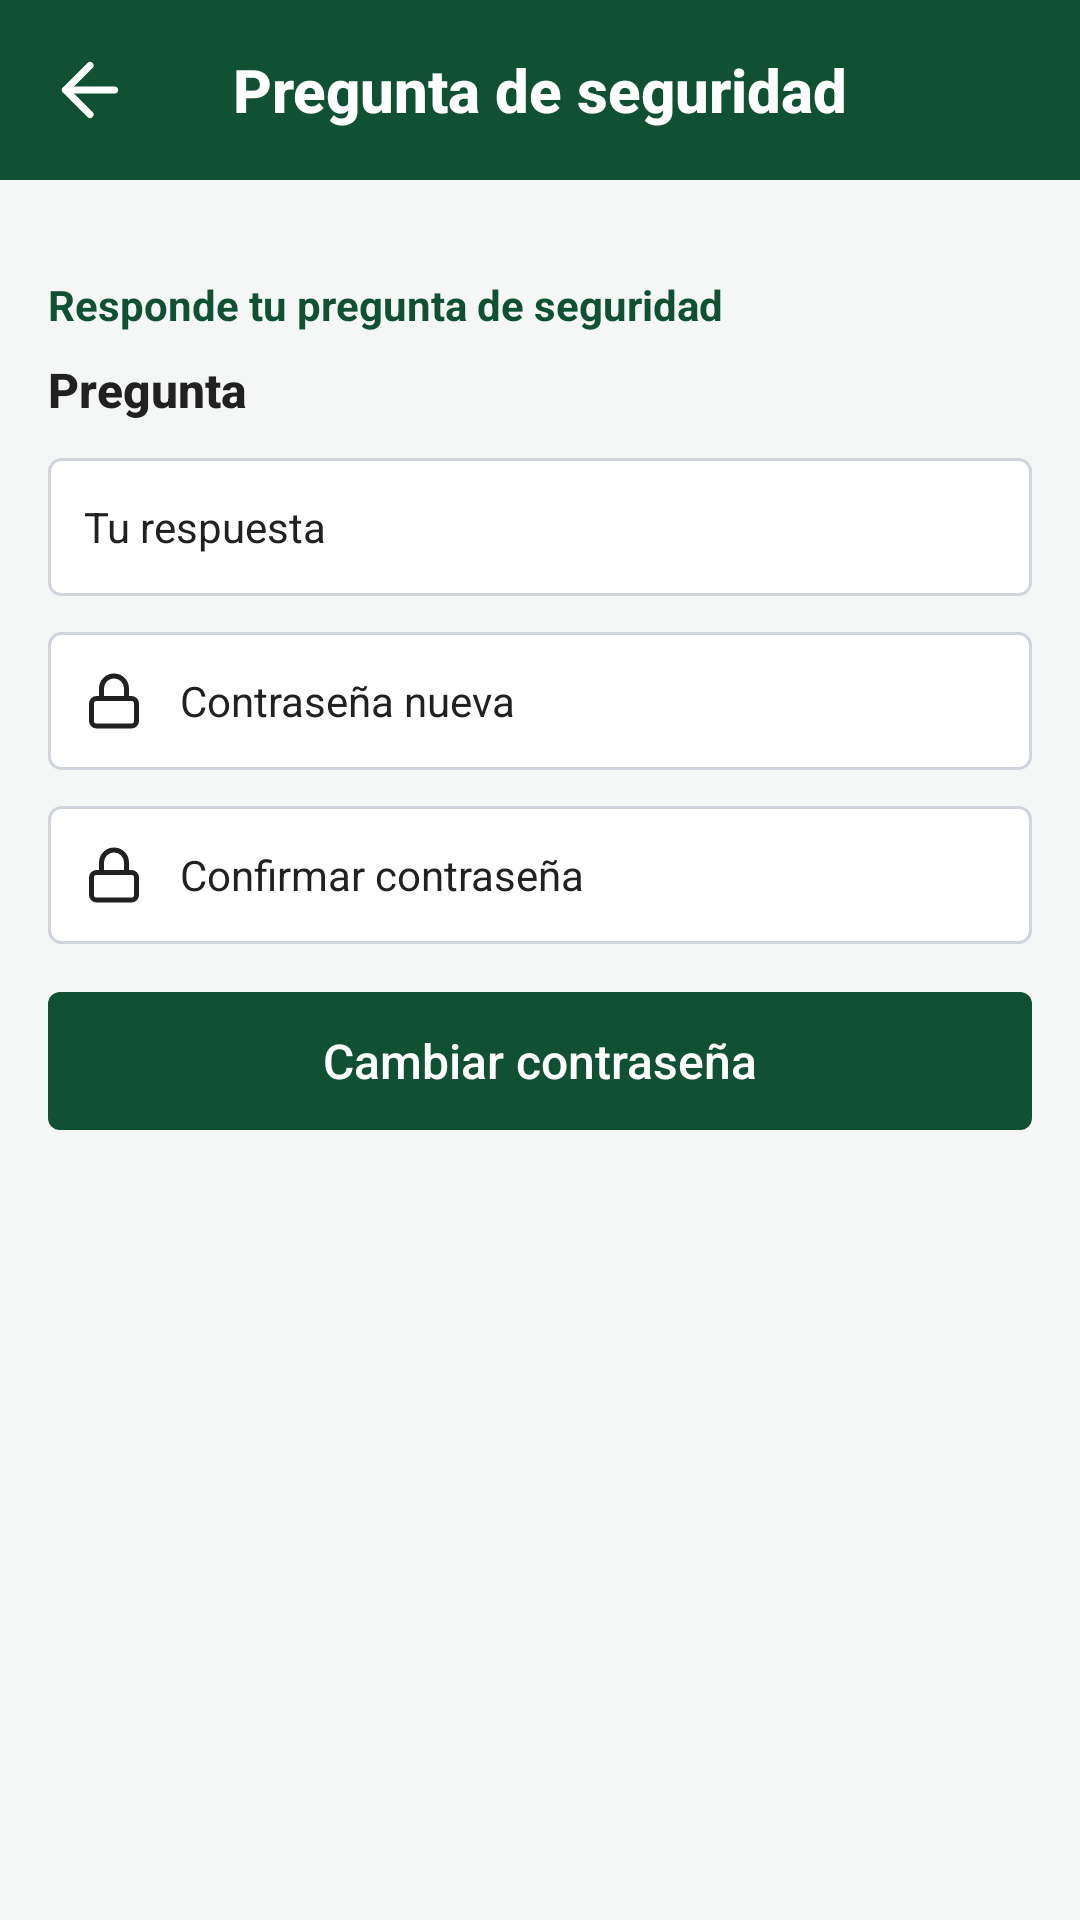

Named icons in this screenshot (1080×1920) and their bounding boxes, (x1, y1, x2, y2):
flecha atras: (62, 61, 118, 119)
